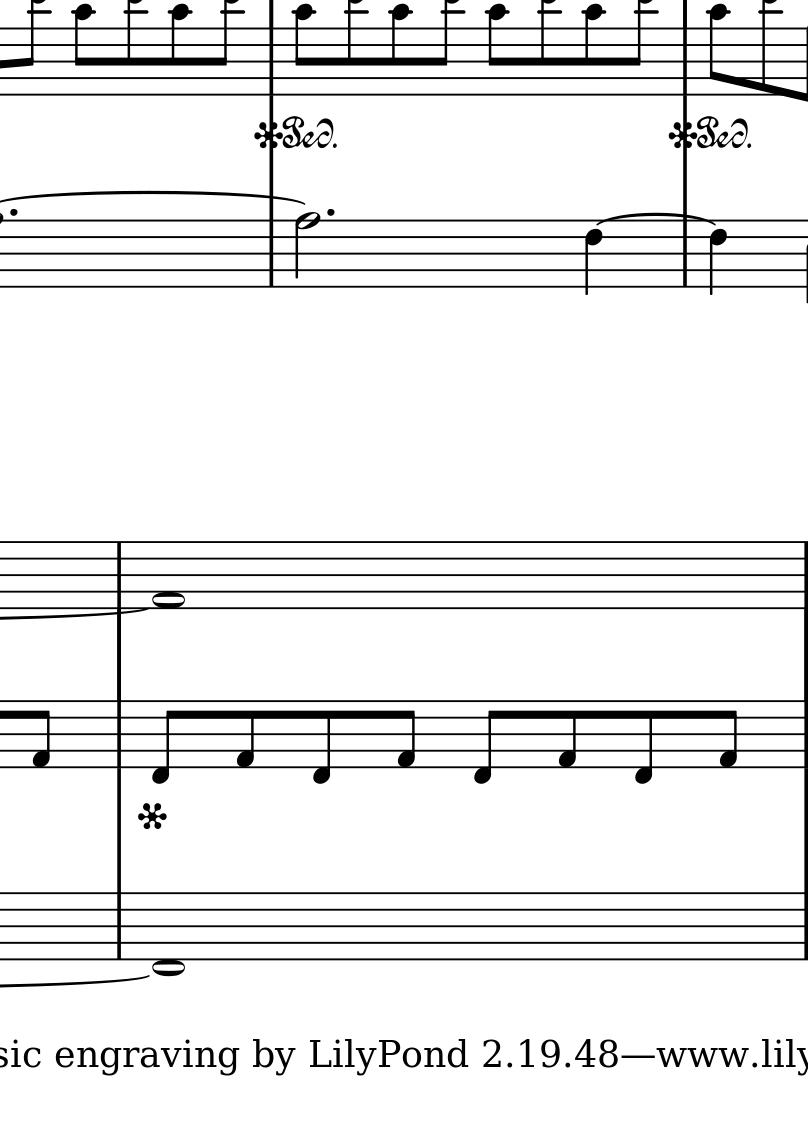1_1: (152, 539, 188, 612)
2_8: (293, 210, 322, 291)
4_1: (32, 699, 52, 771)
4_6: (582, 216, 605, 296), (706, 217, 729, 297)
8_-1: (147, 697, 181, 785), (470, 698, 500, 784), (632, 697, 654, 785), (312, 698, 333, 785)
8_1: (716, 697, 740, 771), (557, 698, 580, 771), (235, 697, 257, 773), (396, 699, 416, 769)
Single_barline: (109, 700, 130, 768), (109, 893, 129, 960), (676, 221, 696, 288), (109, 542, 129, 608), (264, 221, 283, 286), (263, 28, 281, 95), (678, 27, 694, 96), (795, 892, 808, 961), (795, 542, 808, 609), (795, 701, 808, 768)
Slur: (595, 209, 723, 228)
dot: (324, 206, 337, 221), (8, 206, 21, 220)
